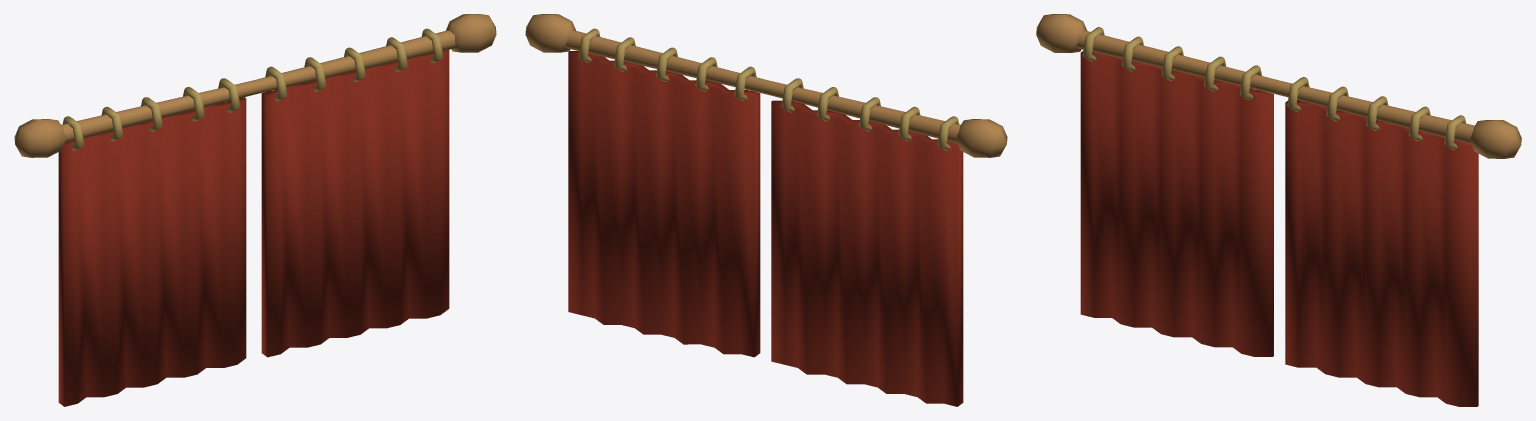
The model's file is props_rideaux_ferme.fbx.
The picture shows the model from 3 angles, left to right: view 1: azimuth 30°, elevation 25°; view 2: azimuth 150°, elevation 25°; view 3: azimuth 330°, elevation 25°; orthographic projection.
Visible parts, largest first — view 1: Cube.004; view 2: Cube.004; view 3: Cube.004.
Part boxes in pixels (<box>): Cube.004: <box>14,14,496,406</box>; Cube.004: <box>525,14,1007,406</box>; Cube.004: <box>1036,14,1521,406</box>.
Bounding box in the file's own units: 448 × 259 × 33.56.
